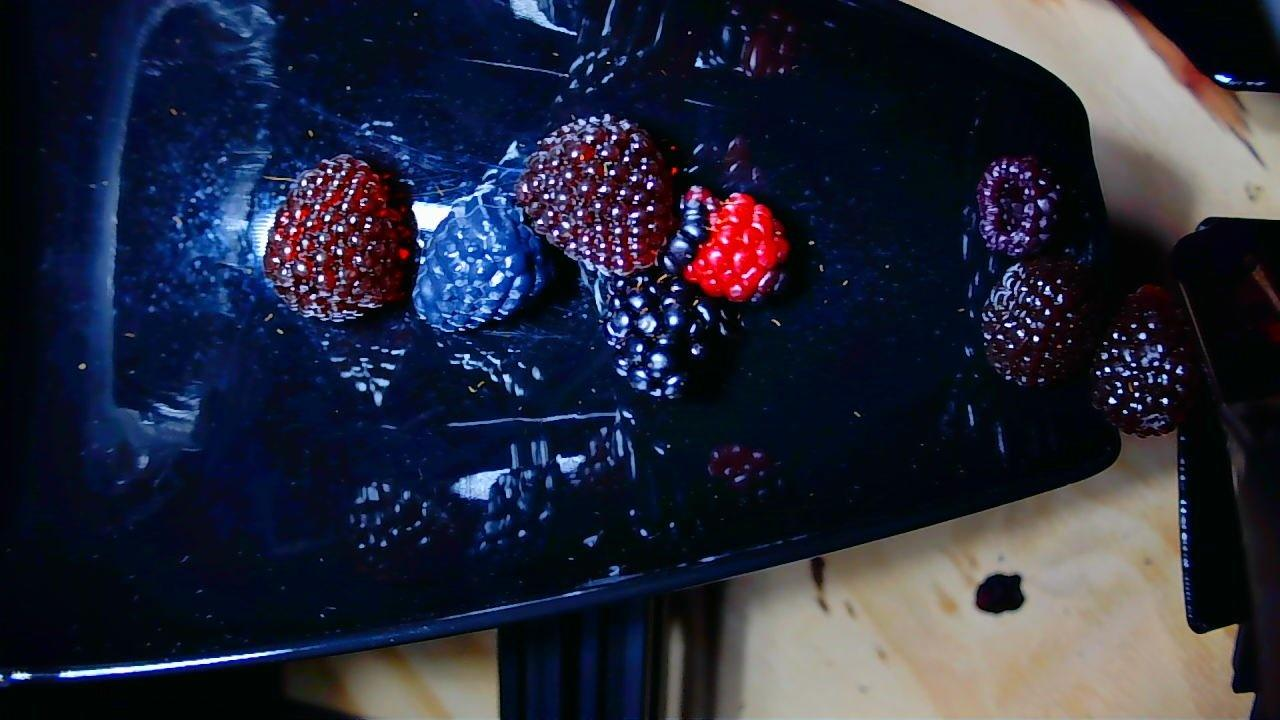berry: (513, 114, 675, 274), (263, 154, 416, 321), (412, 184, 552, 332), (1093, 285, 1201, 436), (981, 257, 1100, 386), (660, 186, 789, 302), (604, 277, 724, 397), (977, 156, 1062, 257)
